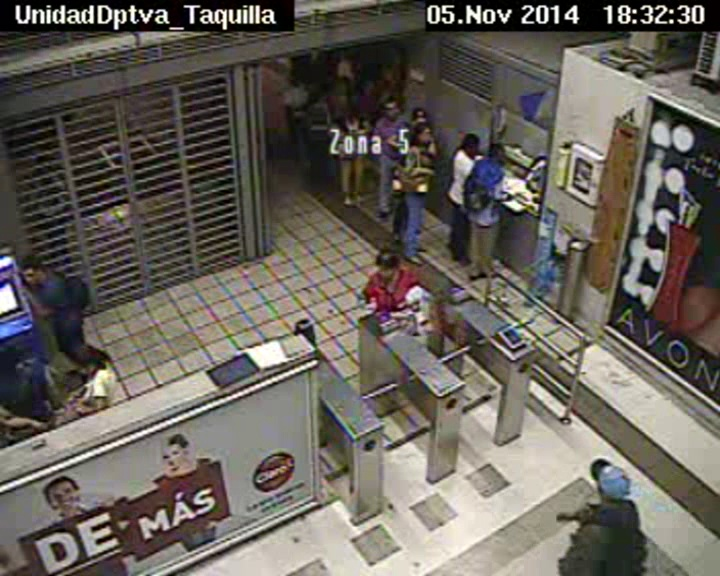person: (588, 457, 633, 507), (68, 339, 105, 376), (18, 253, 46, 283), (373, 248, 400, 278), (1, 344, 26, 372), (458, 130, 481, 158), (379, 94, 402, 121), (411, 121, 434, 146), (411, 104, 431, 127), (488, 140, 508, 161), (335, 78, 351, 94), (345, 111, 357, 122), (306, 80, 317, 92), (289, 78, 299, 89), (315, 96, 324, 106)
